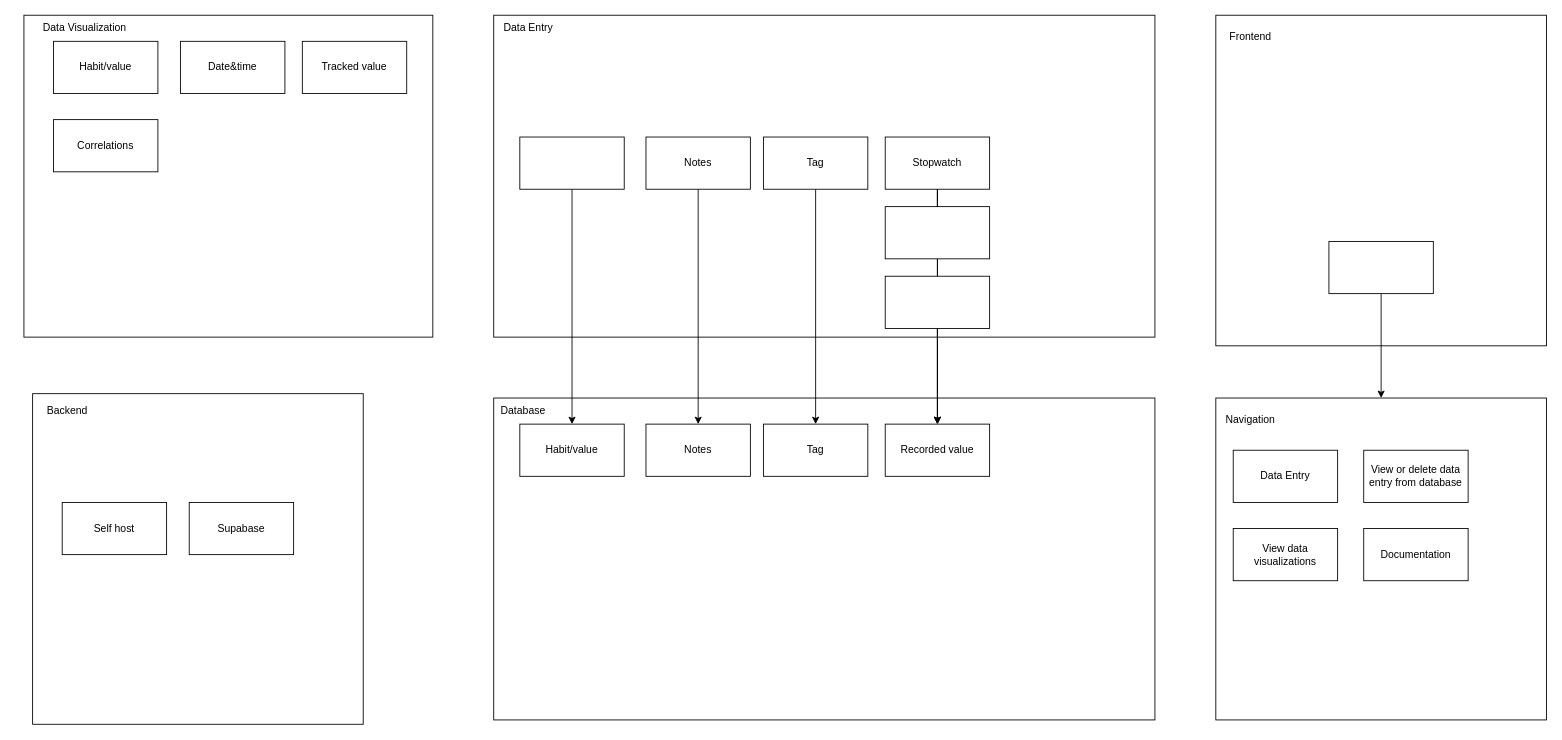
Some shapes in this 1562 by 740 pixel diagram are drawn without their labels. Here are the shapes that lost their labels. From the top down, the centre of each, then its label:
[571,162]: Habit / Value
[937,232]: Timer
[1380,267]: Navigation menu
[937,301]: Tally Counter
